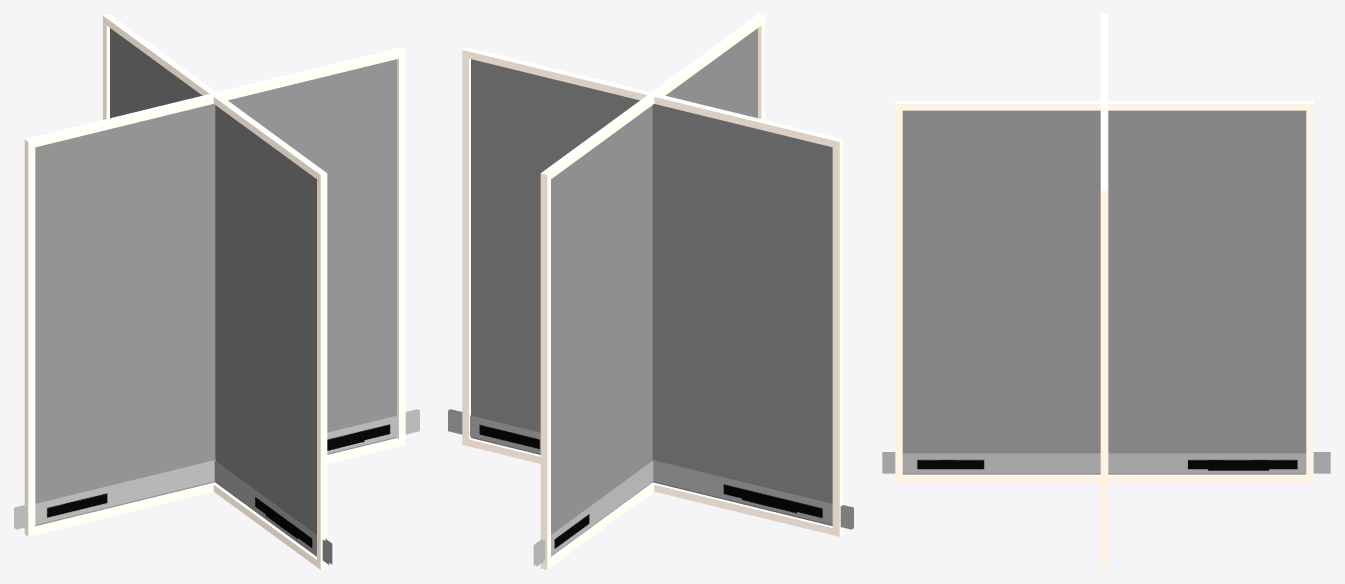
File: DG-Incurred.fbx
3 renders of one model, left to right at view 1: azimuth 30°, elevation 25°; view 2: azimuth 150°, elevation 25°; view 3: azimuth 270°, elevation 25°, orthographic. The views are drawn at different scales.
Parts seen in each view (by area): view 1: Paint_back, Paint_front, Paint_front_1, Paint_back_1, DG2021_front, FrameL, FrameT, FrameL_1, FrameR, FrameT_1, FrameB, DG2021_back_1 (+2 smaller); view 2: Paint_back, Paint_front, Paint_back_1, Paint_front_1, DG2021_back, FrameL, FrameT, FrameR_1, FrameR, FrameT_1, FrameB, DG2021_back_1 (+2 smaller); view 3: Paint_front_1, Paint_back_1, DG2021_front_1, FrameT_1, FrameB_1, FrameR, FrameL_1, FrameR_1, FrameT.
Part boxes in pixels (x1=…): Paint_back: x1=35, y1=60, x2=396, y2=525; Paint_front: x1=35, y1=59, x2=396, y2=525; Paint_front_1: x1=110, y1=28, x2=316, y2=556; Paint_back_1: x1=110, y1=30, x2=316, y2=556; DG2021_front: x1=15, y1=410, x2=419, y2=529; FrameL: x1=24, y1=146, x2=35, y2=529; FrameT: x1=24, y1=47, x2=405, y2=148; FrameL_1: x1=317, y1=179, x2=327, y2=562; FrameR: x1=397, y1=57, x2=405, y2=439; FrameT_1: x1=103, y1=14, x2=327, y2=181; FrameB: x1=24, y1=438, x2=405, y2=536; DG2021_back_1: x1=214, y1=460, x2=329, y2=564; Paint_back: x1=471, y1=59, x2=832, y2=525; Paint_front: x1=471, y1=59, x2=832, y2=525; Paint_back_1: x1=551, y1=29, x2=757, y2=556; Paint_front_1: x1=551, y1=28, x2=757, y2=556; DG2021_back: x1=448, y1=410, x2=852, y2=529; FrameL: x1=832, y1=146, x2=843, y2=529; FrameT: x1=462, y1=47, x2=843, y2=148; FrameR_1: x1=540, y1=179, x2=550, y2=562; FrameR: x1=462, y1=57, x2=470, y2=439; FrameT_1: x1=540, y1=14, x2=764, y2=181; FrameB: x1=462, y1=438, x2=843, y2=536; DG2021_back_1: x1=536, y1=460, x2=653, y2=566; Paint_front_1: x1=902, y1=110, x2=1306, y2=474; Paint_back_1: x1=902, y1=110, x2=1306, y2=474; DG2021_front_1: x1=882, y1=453, x2=1330, y2=473; FrameT_1: x1=895, y1=100, x2=1313, y2=110; FrameB_1: x1=895, y1=474, x2=1313, y2=483; FrameR: x1=1100, y1=197, x2=1108, y2=563; FrameL_1: x1=895, y1=110, x2=902, y2=476; FrameR_1: x1=1306, y1=110, x2=1313, y2=476; FrameT: x1=1100, y1=14, x2=1108, y2=197.
Size of the model in its own units: 300 by 280 by 300.
